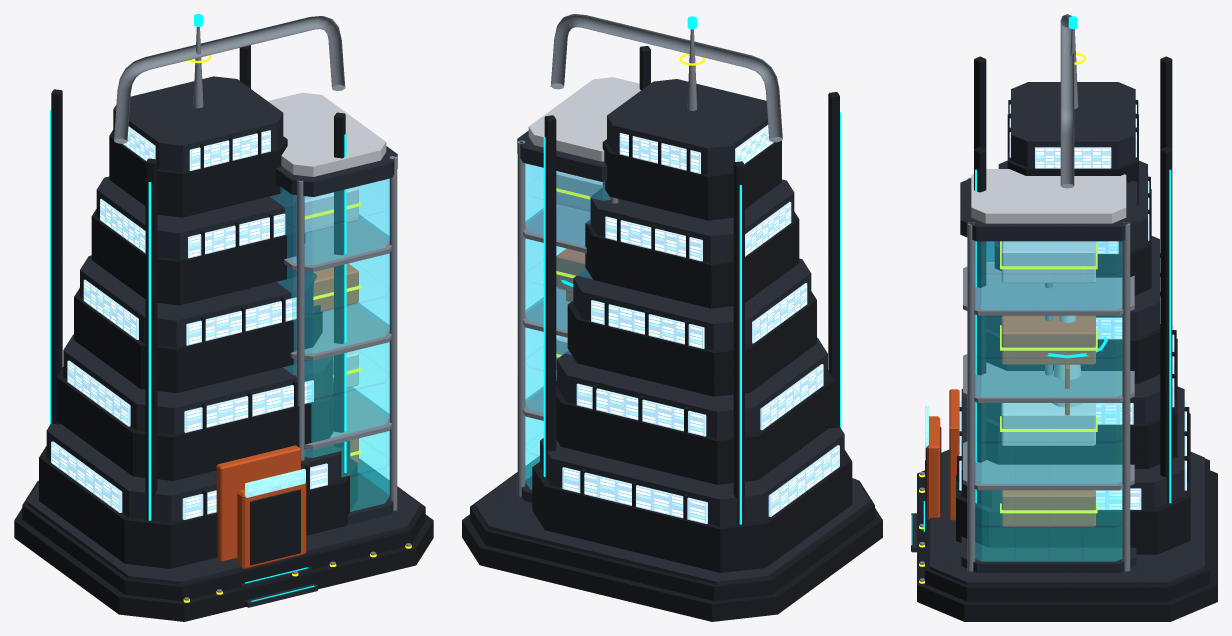
The model's file is bldg_16_r1_04.glb.
3 renders of one model, left to right at view 1: azimuth 30°, elevation 25°; view 2: azimuth 150°, elevation 25°; view 3: azimuth 270°, elevation 25°, orthographic.
Parts seen in each view (by area): view 1: Bldg16_C04_gunmetal, Bldg16_C04_carbon_slate, Bldg16_C04_glass_cyan, Bldg16_C04_steel_machined, Bldg16_C04_window_lit, Bldg16_C04_aero_white, Bldg16_C04_accent_orange, Bldg16_C04_led_cyan, Bldg16_C04_marquee, Bldg16_C04_led_amber; view 2: Bldg16_C04_gunmetal, Bldg16_C04_carbon_slate, Bldg16_C04_window_lit, Bldg16_C04_steel_machined, Bldg16_C04_glass_cyan, Bldg16_C04_aero_white, Bldg16_C04_led_cyan, Bldg16_C04_accent_orange; view 3: Bldg16_C04_glass_cyan, Bldg16_C04_gunmetal, Bldg16_C04_carbon_slate, Bldg16_C04_steel_machined, Bldg16_C04_aero_white, Bldg16_C04_accent_orange, Bldg16_C04_window_lit, Bldg16_C04_led_amber, Bldg16_C04_led_cyan.
Boxes of the visible parts, bbox=[...] form: Bldg16_C04_gunmetal: bbox=[14, 45, 433, 621]; Bldg16_C04_carbon_slate: bbox=[27, 76, 420, 607]; Bldg16_C04_glass_cyan: bbox=[270, 179, 389, 511]; Bldg16_C04_steel_machined: bbox=[114, 16, 410, 600]; Bldg16_C04_window_lit: bbox=[51, 126, 327, 519]; Bldg16_C04_aero_white: bbox=[268, 92, 386, 387]; Bldg16_C04_accent_orange: bbox=[216, 263, 358, 569]; Bldg16_C04_led_cyan: bbox=[50, 14, 346, 601]; Bldg16_C04_marquee: bbox=[245, 469, 305, 497]; Bldg16_C04_led_amber: bbox=[183, 55, 411, 602]; Bldg16_C04_gunmetal: bbox=[462, 46, 882, 621]; Bldg16_C04_carbon_slate: bbox=[475, 79, 869, 584]; Bldg16_C04_window_lit: bbox=[562, 125, 839, 523]; Bldg16_C04_steel_machined: bbox=[517, 14, 782, 496]; Bldg16_C04_glass_cyan: bbox=[525, 163, 610, 489]; Bldg16_C04_aero_white: bbox=[528, 77, 640, 369]; Bldg16_C04_led_cyan: bbox=[543, 16, 840, 524]; Bldg16_C04_accent_orange: bbox=[556, 248, 585, 301]; Bldg16_C04_glass_cyan: bbox=[975, 241, 1121, 561]; Bldg16_C04_gunmetal: bbox=[917, 56, 1217, 621]; Bldg16_C04_carbon_slate: bbox=[911, 82, 1204, 585]; Bldg16_C04_steel_machined: bbox=[919, 14, 1134, 581]; Bldg16_C04_aero_white: bbox=[971, 169, 1126, 445]; Bldg16_C04_accent_orange: bbox=[926, 315, 1095, 526]; Bldg16_C04_window_lit: bbox=[959, 98, 1186, 509]; Bldg16_C04_led_amber: bbox=[919, 52, 1097, 583]; Bldg16_C04_led_cyan: bbox=[911, 16, 1171, 545].
Size of the model in its own units: 12.5 by 19.92 by 10.71.
Materials: 10 (10 with a texture image).
